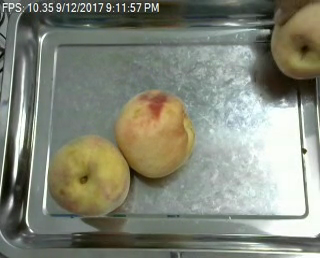Peach: (113, 88, 195, 178), (48, 133, 129, 217), (271, 0, 318, 81)
